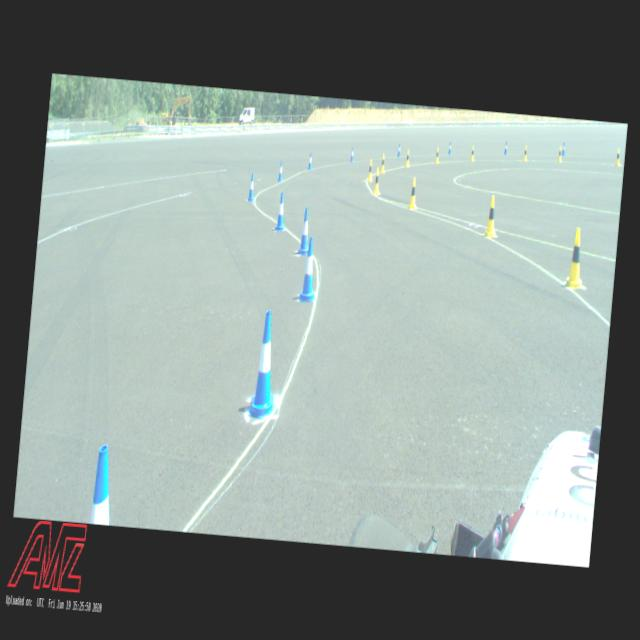blue_cone: (247, 310, 283, 417), (90, 444, 116, 524), (298, 236, 320, 302), (298, 207, 312, 254), (274, 191, 287, 230), (247, 173, 256, 201), (277, 160, 284, 182), (308, 152, 314, 170), (396, 143, 402, 156), (502, 141, 508, 154), (350, 147, 354, 162), (448, 141, 452, 154), (562, 142, 566, 154)
yellow_cone: (564, 226, 586, 288), (484, 195, 498, 236), (408, 177, 418, 210), (372, 168, 382, 195), (367, 159, 374, 181), (380, 154, 386, 173), (615, 148, 621, 166), (522, 144, 528, 160), (405, 150, 410, 167), (556, 146, 562, 160), (435, 147, 440, 163), (470, 145, 475, 161)
